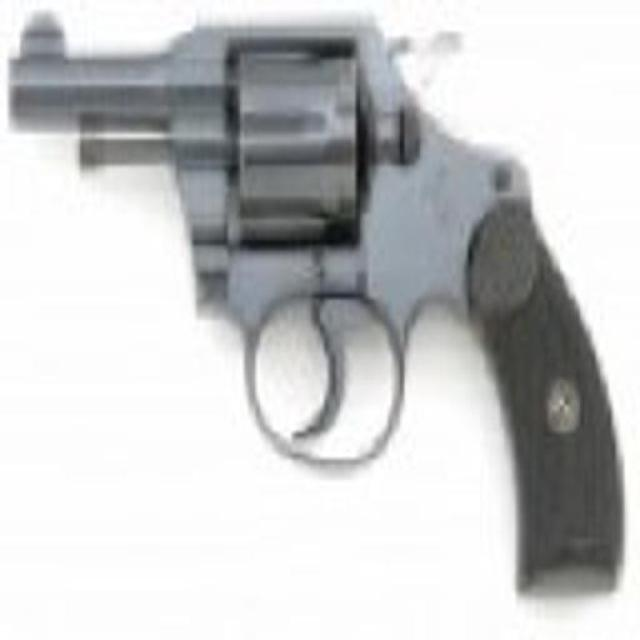pistol: (7, 5, 627, 596)
